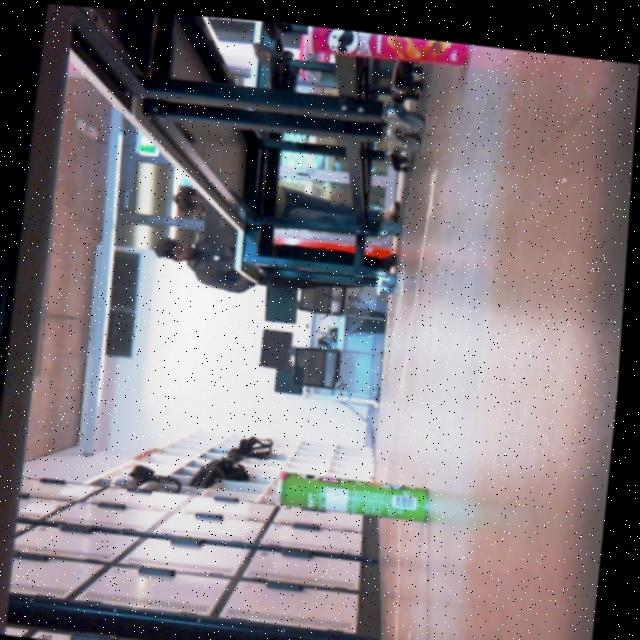greenpringles: (270, 453, 452, 534)
redpringles: (290, 19, 482, 66)
